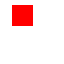square: (12, 5, 32, 25)
